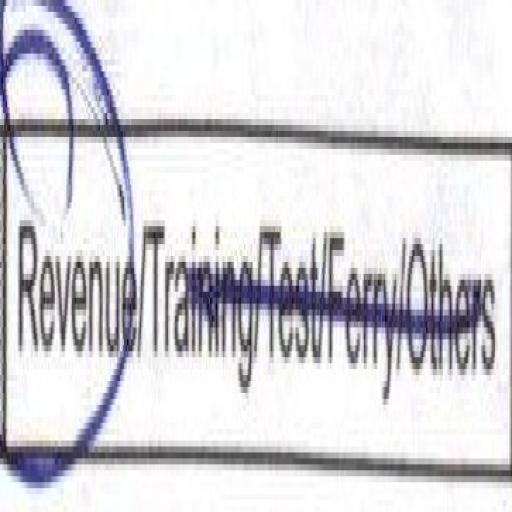check: (0, 19, 135, 490)
